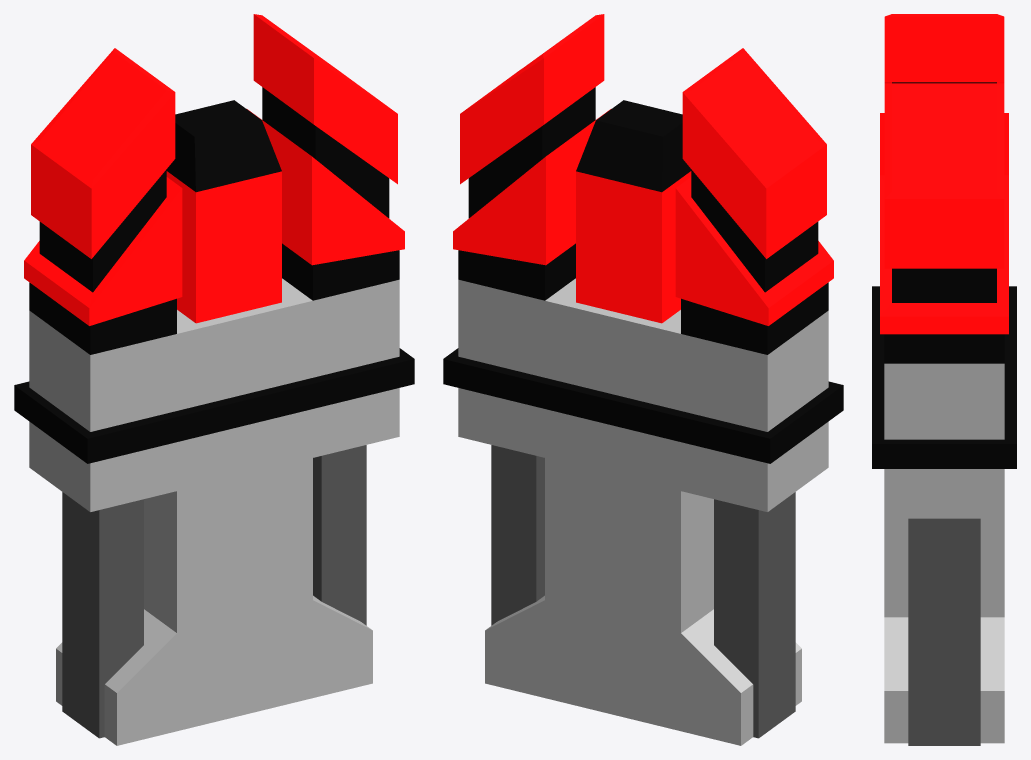
File: scifi-lowpoly-building 4.fbx
3 renders of one model, left to right at view 1: azimuth 30°, elevation 25°; view 2: azimuth 150°, elevation 25°; view 3: azimuth 270°, elevation 25°, orthographic.
Parts seen in each view (by area): view 1: gebouw 4; view 2: gebouw 4; view 3: gebouw 4.
Boxes of the visible parts, box(x1,y1,x2,y2) form: gebouw 4: box(14, 14, 414, 745); gebouw 4: box(443, 14, 843, 745); gebouw 4: box(872, 14, 1016, 745).
Bounding box in the file's own units: 44.5 × 83.08 × 17.28.
